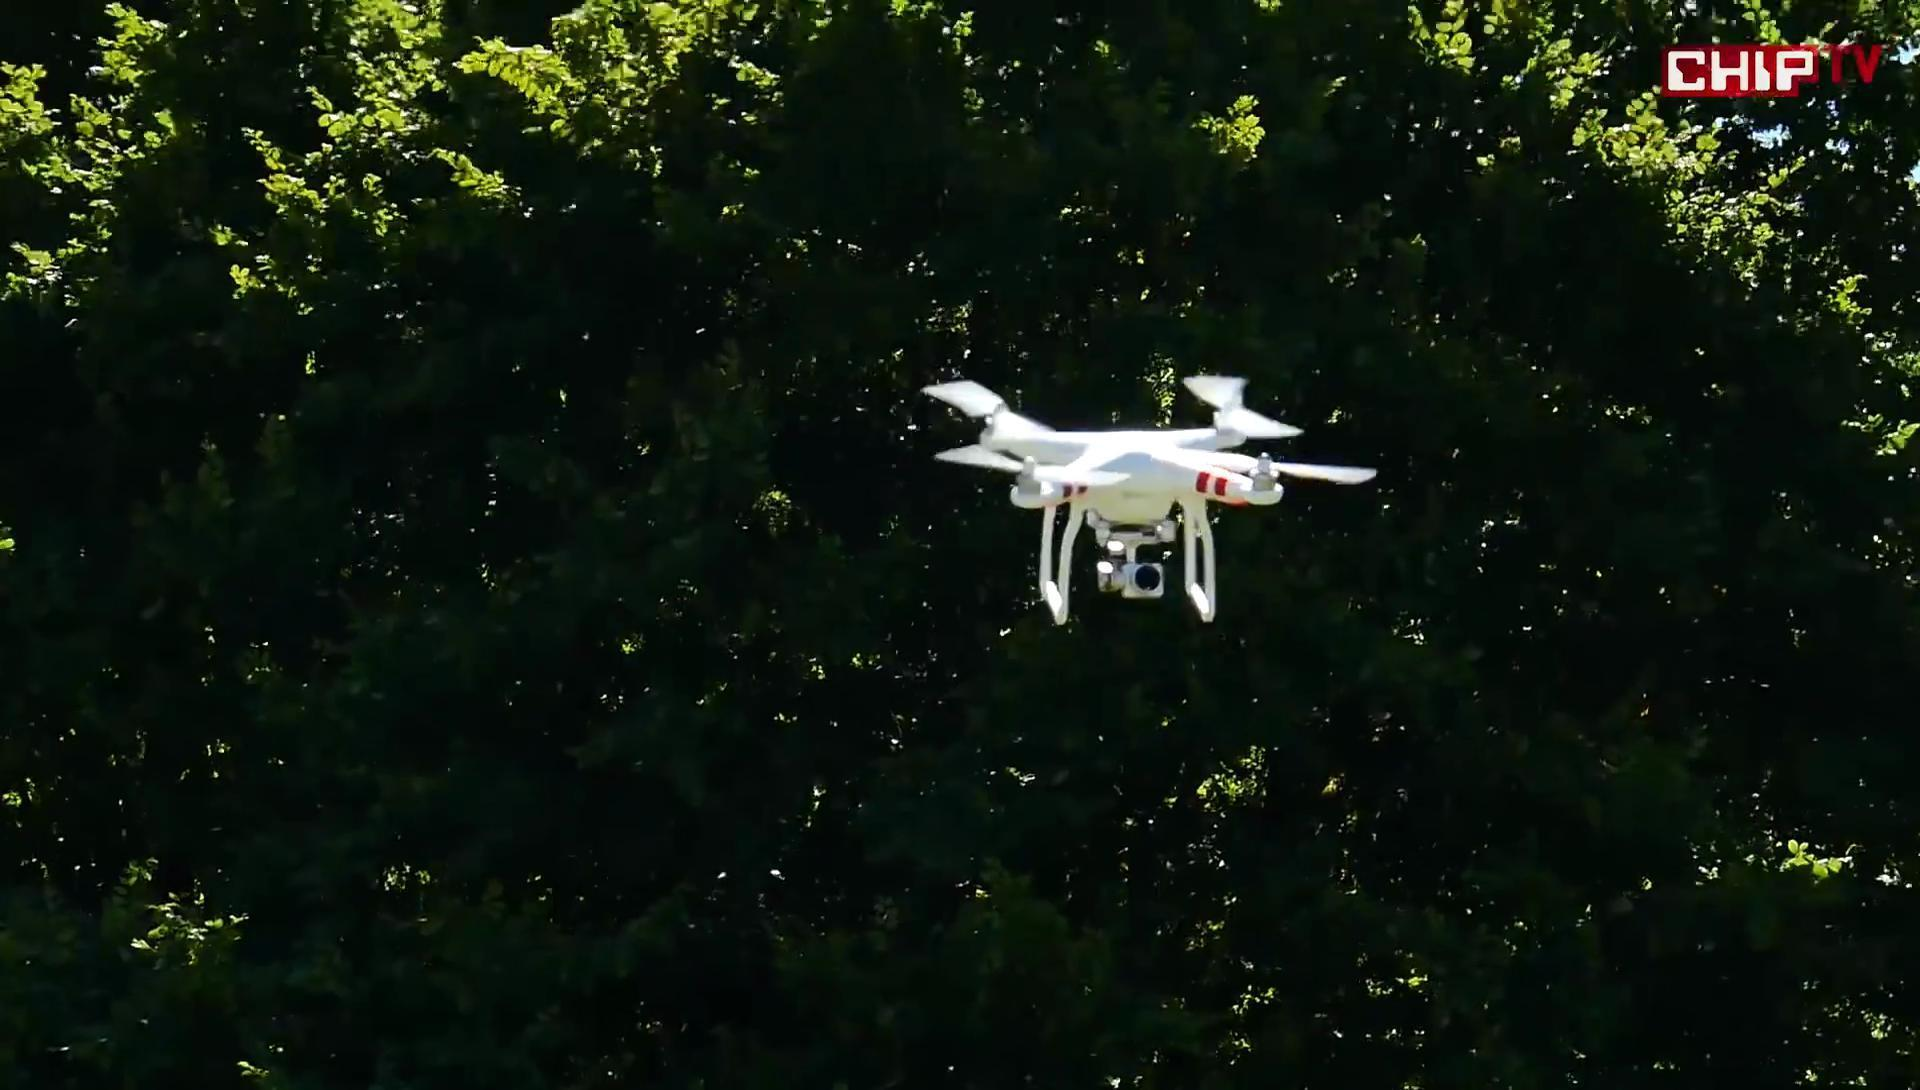drone: (914, 372, 1360, 623)
